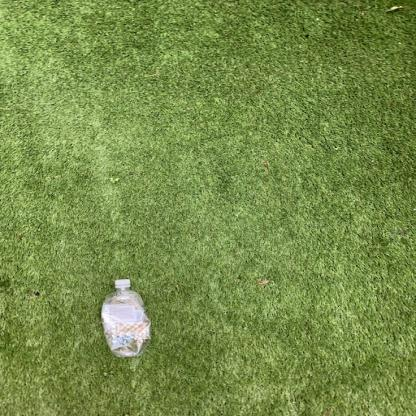trash: (96, 276, 158, 359)
